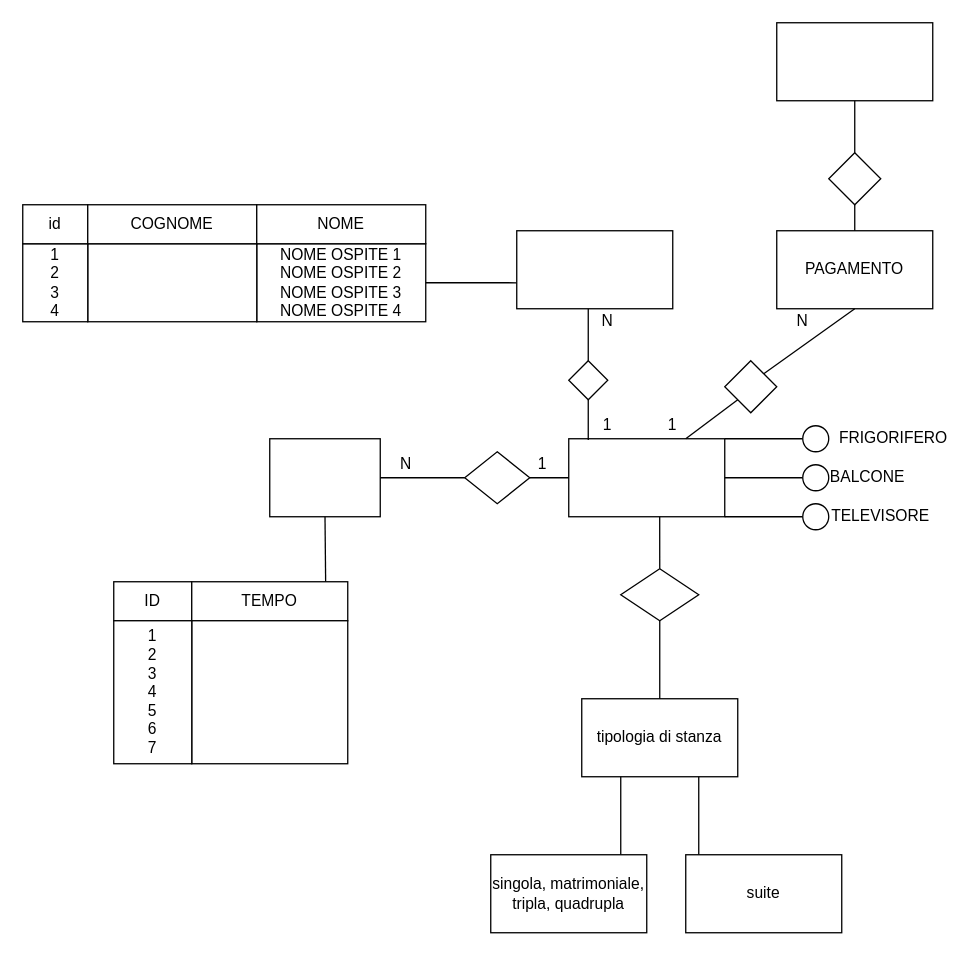
Some shapes in this 970 by 955 pixel diagram are drawn without their labels. The centre of each missing label's shape, as x and y in pixels:
1 NOTTE 2 NOTTI 3 NOTTI 4 NOTTI 5 NOTTI 1 SETTIMANA 1 MESE: pixel 269 691
COGNOME OSPITE 1 COGNOME OSPITE 2 COGNOME OSPITE 3 COGNOME OSPITE 4: pixel 171 282
METODO DI PAGAMENTO: pixel 854 61
OSPITI: pixel 594 269
PERIODO: pixel 324 477
stanza: pixel 646 477
